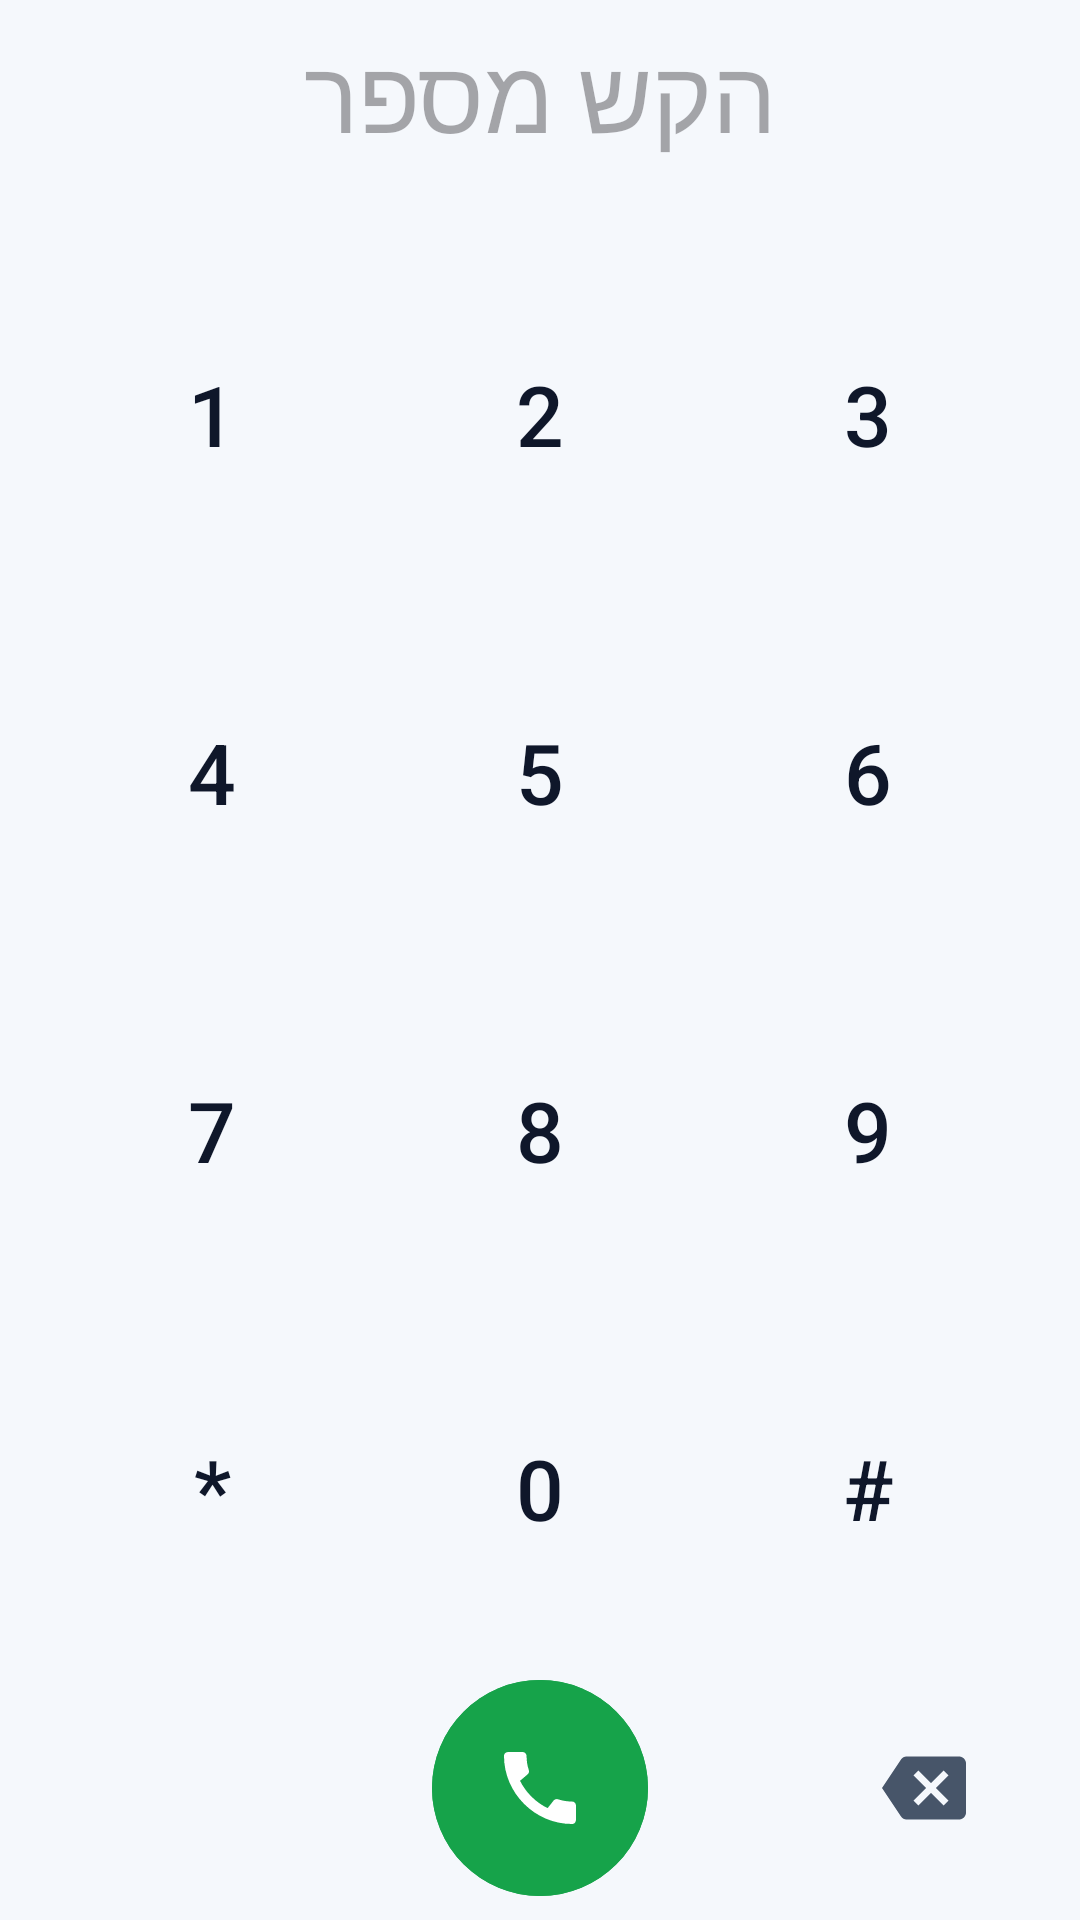

Where to tap for icons on this 1080*1920 app screen, as [x,y]:
חייג: [540,1788]
מחק: [924,1788]
